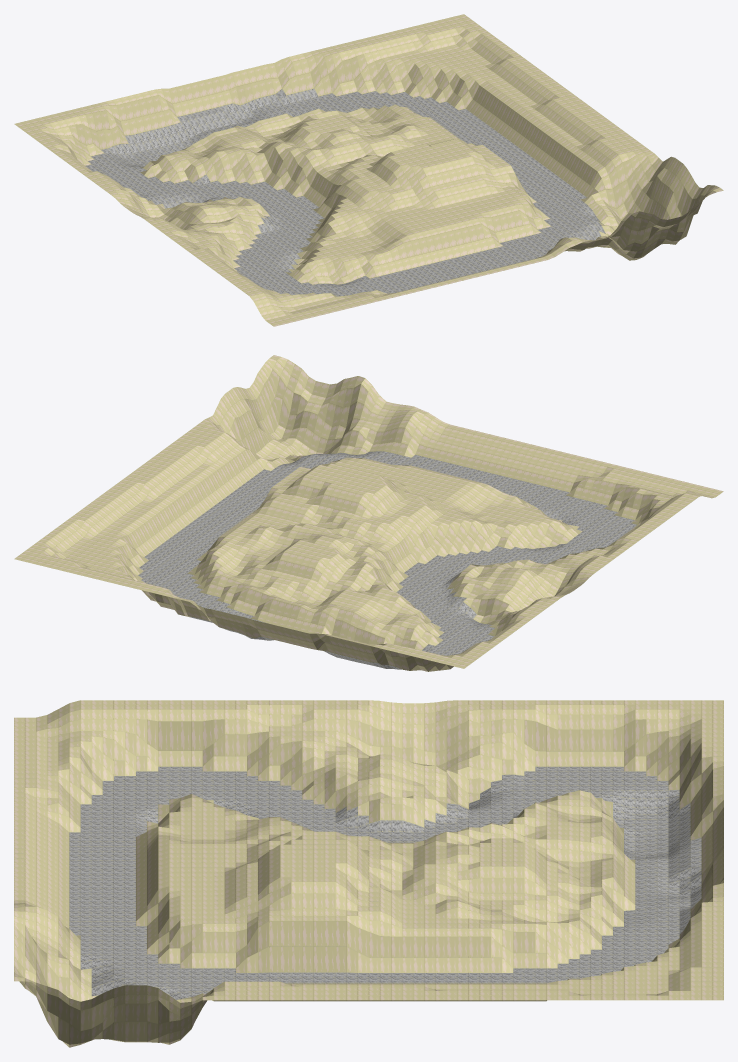
File: level1.glb
The picture shows the model from 3 angles, top to bottom: view 1: azimuth 30°, elevation 25°; view 2: azimuth 150°, elevation 25°; view 3: azimuth 270°, elevation 25°; orthographic projection. The views are drawn at different scales.
Visible parts, largest first — view 1: Terrain_01_Track.001; view 2: Terrain_01_Track.001; view 3: Terrain_01_Track.001.
Boxes of the visible parts, box(x1,y1,x2,y2) form: Terrain_01_Track.001: box(14, 14, 723, 326); Terrain_01_Track.001: box(14, 355, 723, 671); Terrain_01_Track.001: box(14, 700, 723, 1047).
Size of the model in its own units: 128 by 19.73 by 128.
1 material, 1 textured.
